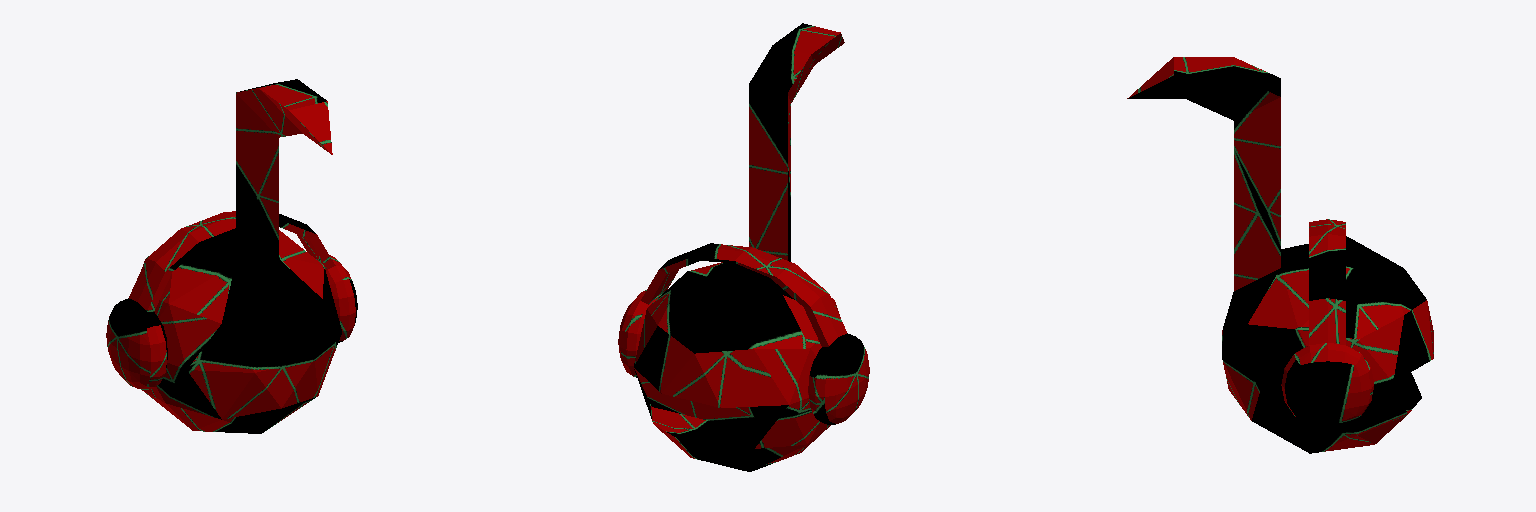
3 views of the same model, side by side, from view 1: azimuth 30°, elevation 25°; view 2: azimuth 150°, elevation 25°; view 3: azimuth 270°, elevation 25° (orthographic).
Parts seen in each view (by area): view 1: ICO球; view 2: ICO球; view 3: ICO球.
Part boxes in pixels (left/top/right/bottom): ICO球: left=106, top=79, right=357, bottom=433; ICO球: left=618, top=23, right=869, bottom=471; ICO球: left=1127, top=57, right=1433, bottom=453.
Bounding box in the file's own units: 2.38 × 3.76 × 2.77.
1 materials, 1 textured.